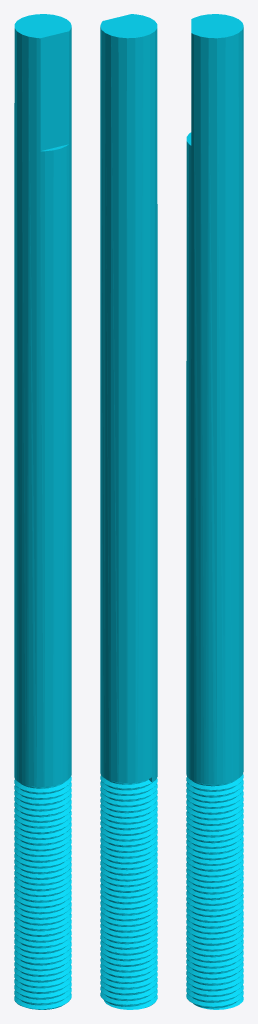
Rendered from push_rod.glb.
3 renders of one model, left to right at view 1: azimuth 30°, elevation 25°; view 2: azimuth 210°, elevation 25°; view 3: azimuth 270°, elevation 25°, orthographic.
Visible parts, largest first — view 1: Node1; view 2: Node1; view 3: Node1.
Part boxes in pixels (bbox=[...]): Node1: bbox=[14, 14, 71, 1009]; Node1: bbox=[100, 14, 157, 1009]; Node1: bbox=[186, 14, 243, 1009].
Bounding box in the file's own units: 1.83 × 34.13 × 1.83.
